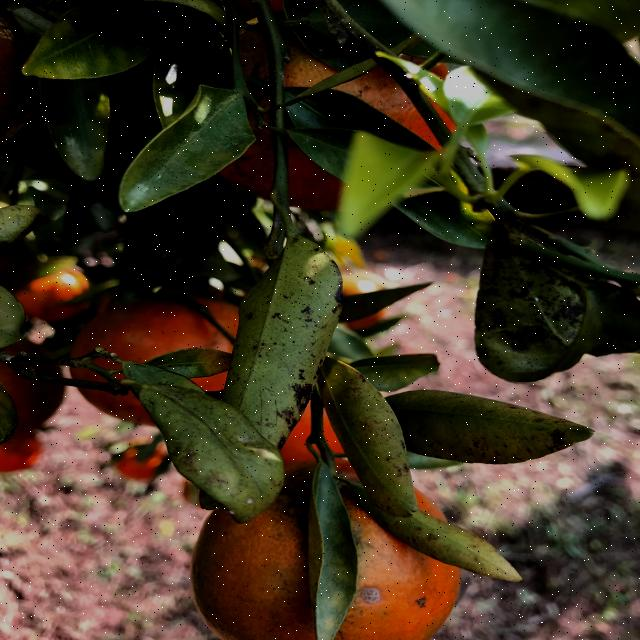melanose: (209, 239, 341, 471), (447, 200, 603, 396), (368, 388, 586, 463)
